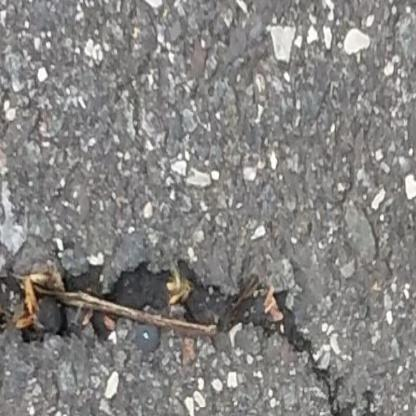Cracks: (0, 259, 388, 416)
